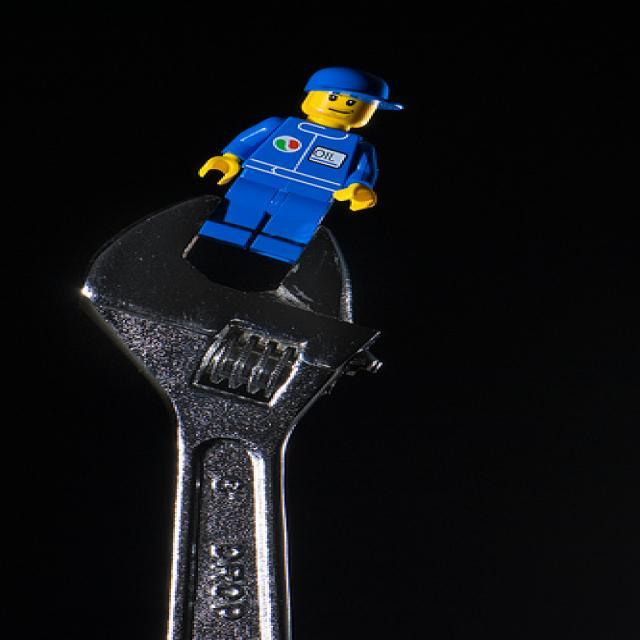wrench: (63, 184, 404, 640)
